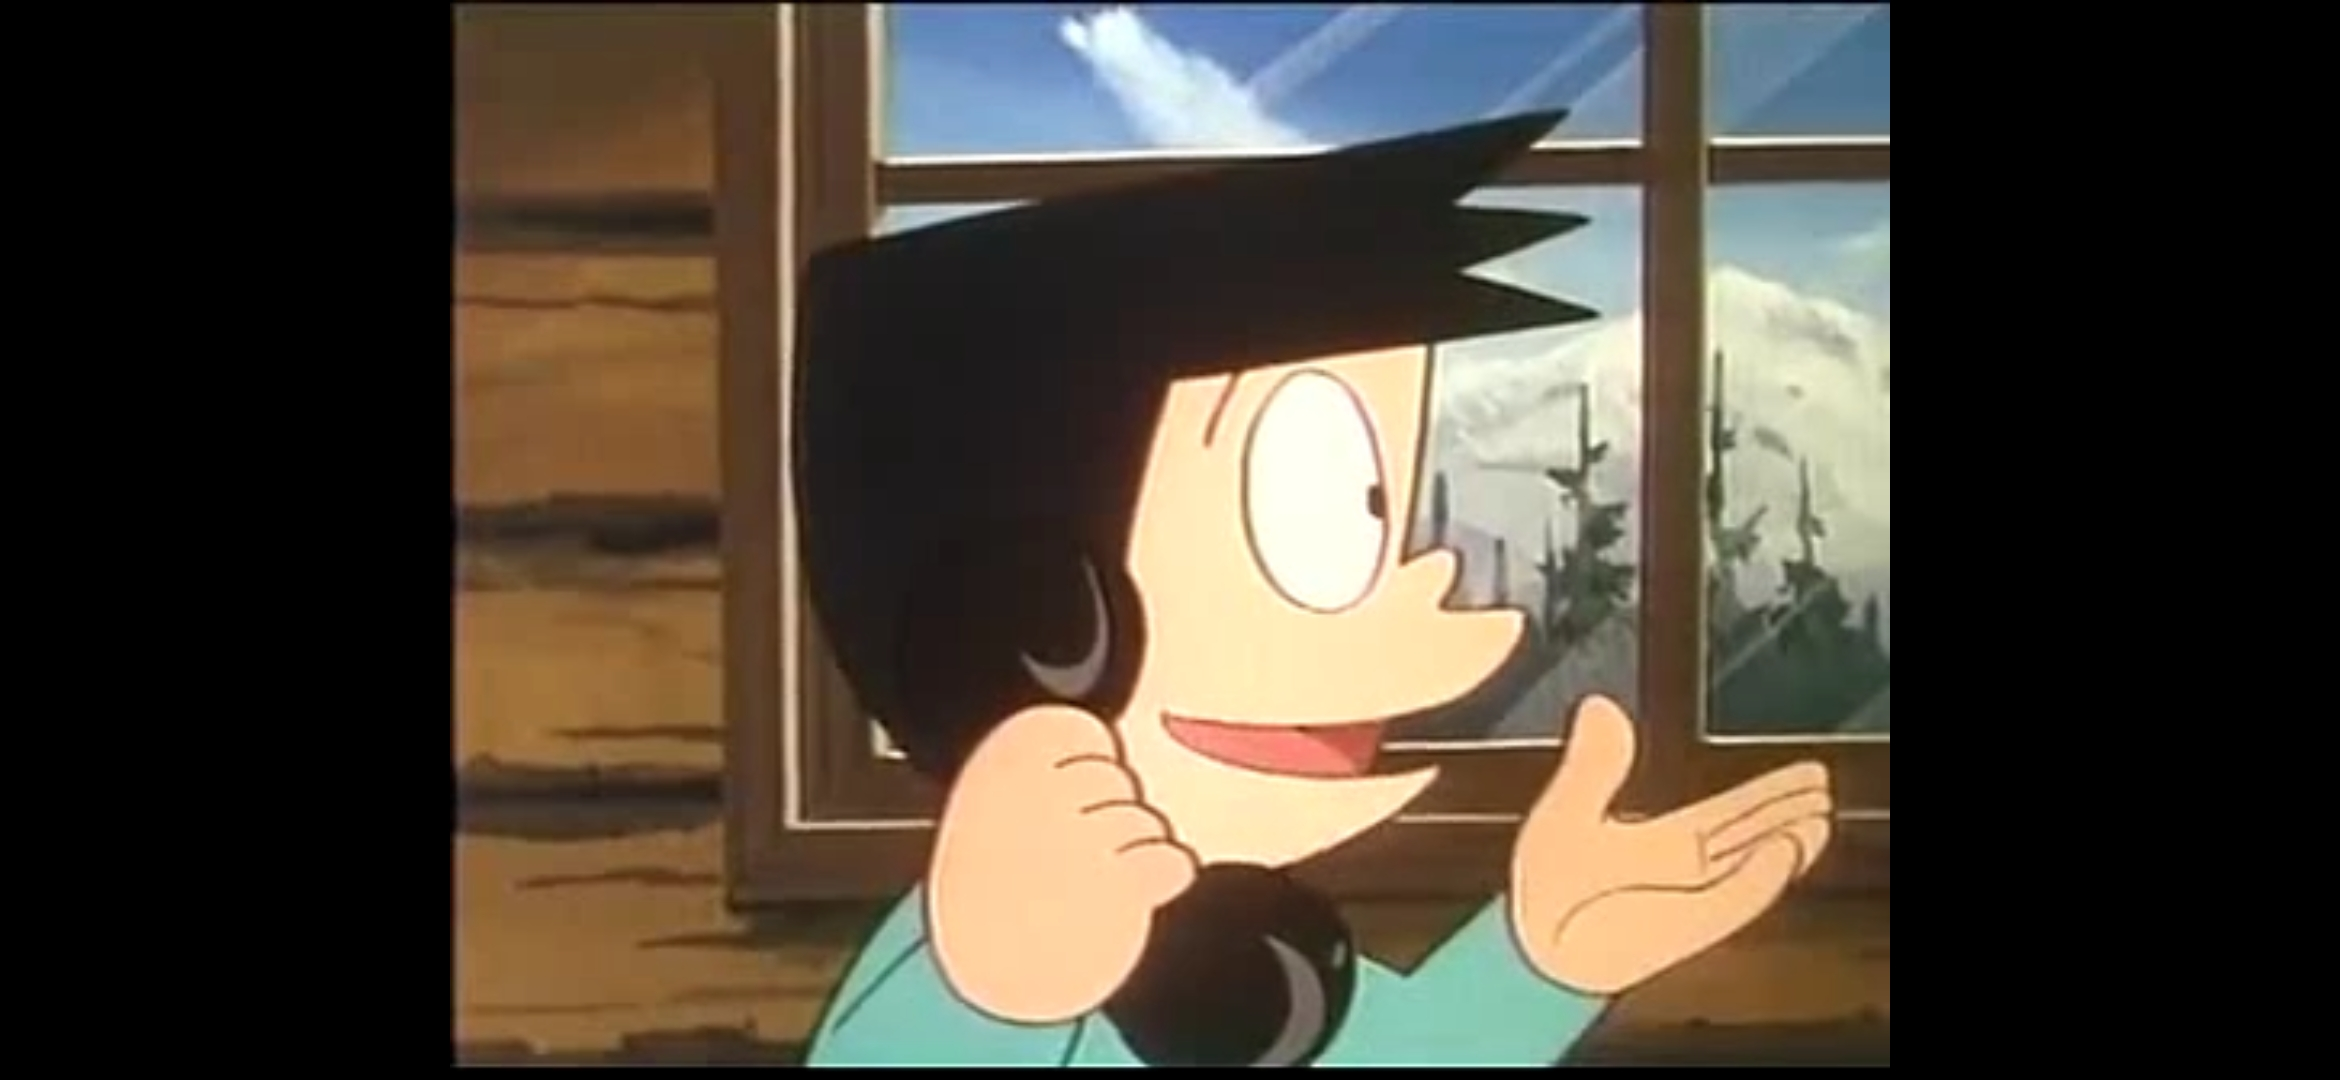Suneo: (789, 104, 1595, 862)
